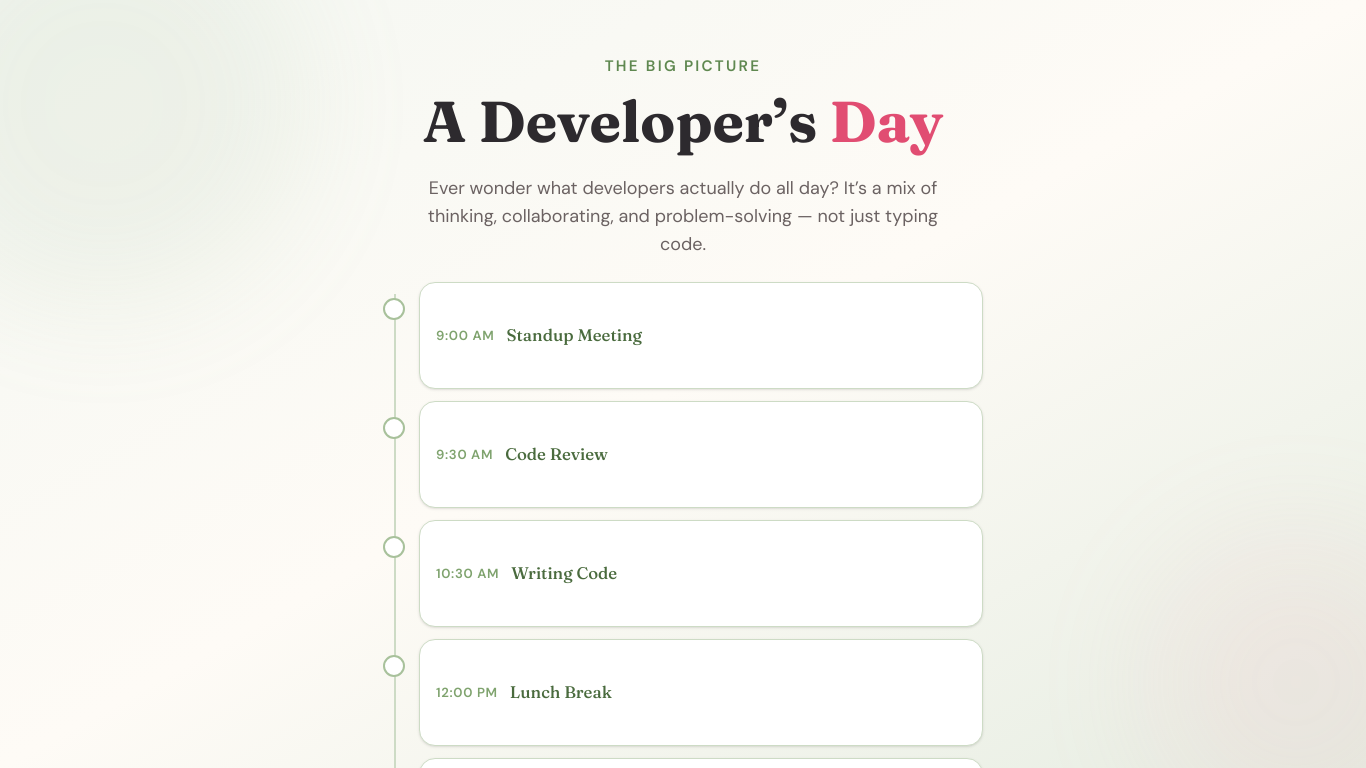
Scenario: DevDaySlide › expands an activity when clicked
The image size is (1366, 768).
Expected: the text "A quick 15-minute team check-in" is not shown
Step 1. Click the button "9:00 AM Standup Meeting" → click(465, 335), box [419,282,983,389]
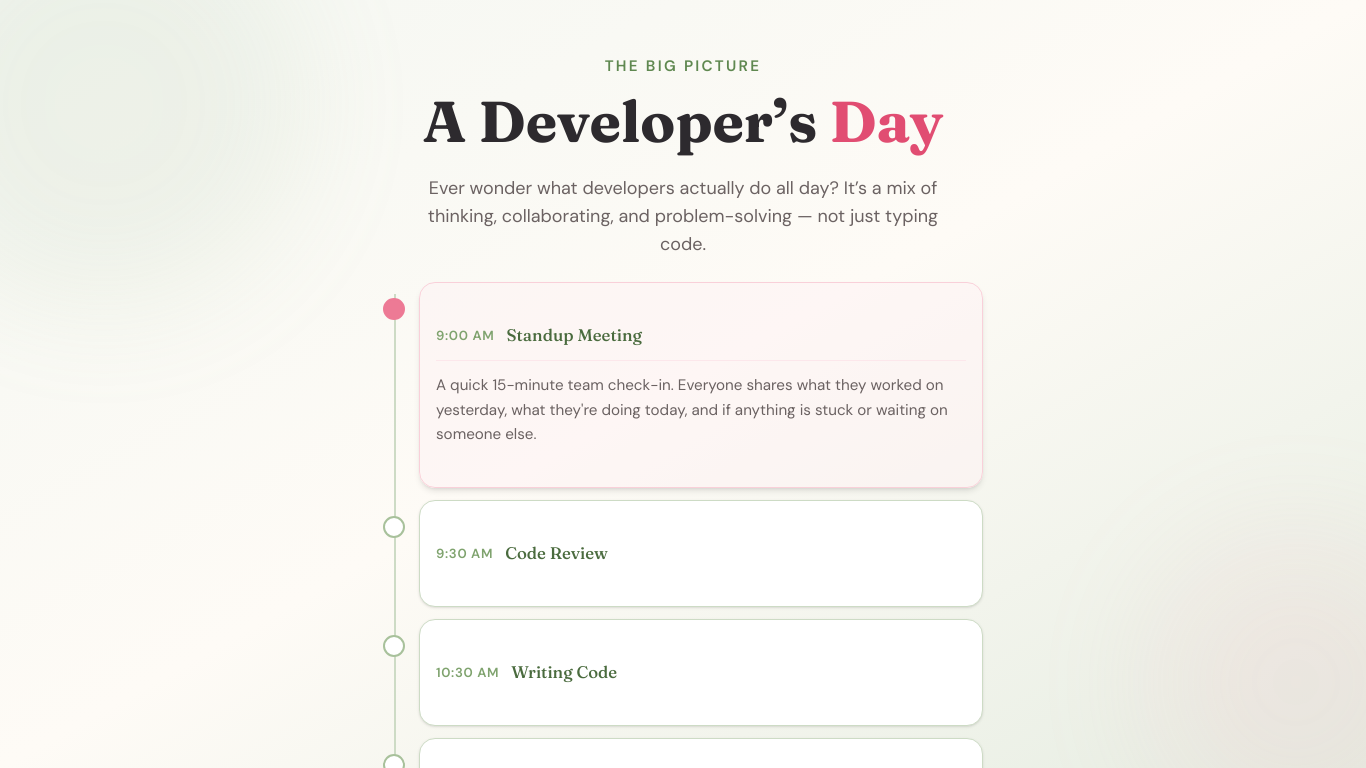
Result: the text "A quick 15-minute team check-in" is shown at [436,375,948,444]
